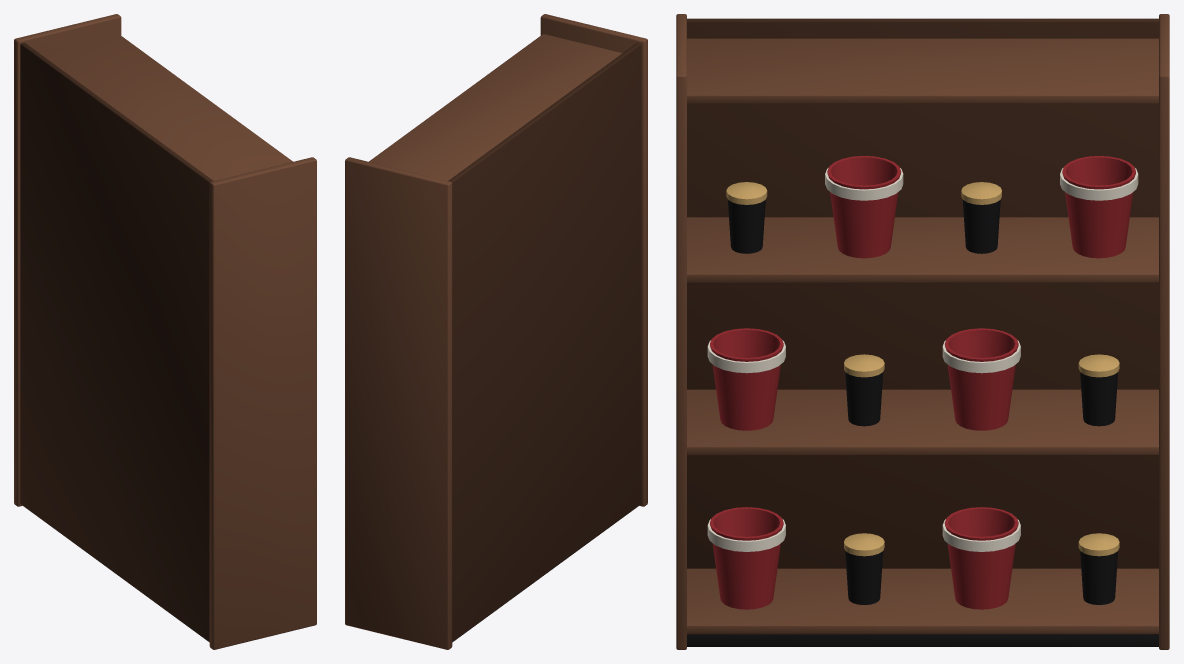
The model's file is merch_shelf.glb.
3 views of the same model, side by side, from view 1: azimuth 30°, elevation 25°; view 2: azimuth 150°, elevation 25°; view 3: azimuth 270°, elevation 25° (orthographic). The views are drawn at different scales.
Visible parts, largest first — view 1: Back_LOD0, Side_LOD0, Shelf_LOD0.003, Side_LOD0.001; view 2: Back_LOD0, Side_LOD0.001, Shelf_LOD0.003, Side_LOD0; view 3: Back_LOD0, Shelf_LOD0.003, Shelf_LOD0, Shelf_LOD0.001, Shelf_LOD0.002, Side_LOD0, Side_LOD0.001, Toe_LOD0, Bucket_LOD0.001, Bucket_LOD0, Bucket_LOD0.002, Bucket_LOD0.003 (+20 smaller).
Boxes of the visible parts, x1,y1,x2,y2 form: Back_LOD0: (20, 42, 213, 641); Side_LOD0: (209, 157, 316, 649); Shelf_LOD0.003: (39, 34, 292, 180); Side_LOD0.001: (14, 14, 121, 506); Back_LOD0: (448, 42, 641, 641); Side_LOD0.001: (345, 157, 452, 649); Shelf_LOD0.003: (369, 34, 622, 180); Side_LOD0: (540, 14, 647, 506); Back_LOD0: (687, 18, 1158, 568); Shelf_LOD0.003: (687, 38, 1158, 103); Shelf_LOD0: (687, 568, 1158, 634); Shelf_LOD0.001: (687, 389, 1158, 455); Shelf_LOD0.002: (687, 217, 1158, 282); Side_LOD0: (676, 14, 686, 649); Side_LOD0.001: (1159, 14, 1169, 649); Toe_LOD0: (687, 634, 1158, 646); Bucket_LOD0.001: (944, 507, 1018, 609); Bucket_LOD0: (710, 507, 783, 609); Bucket_LOD0.002: (710, 328, 783, 430); Bucket_LOD0.003: (944, 328, 1018, 430).
Size of the model in its own units: 0.42 by 1.8 by 1.4.
